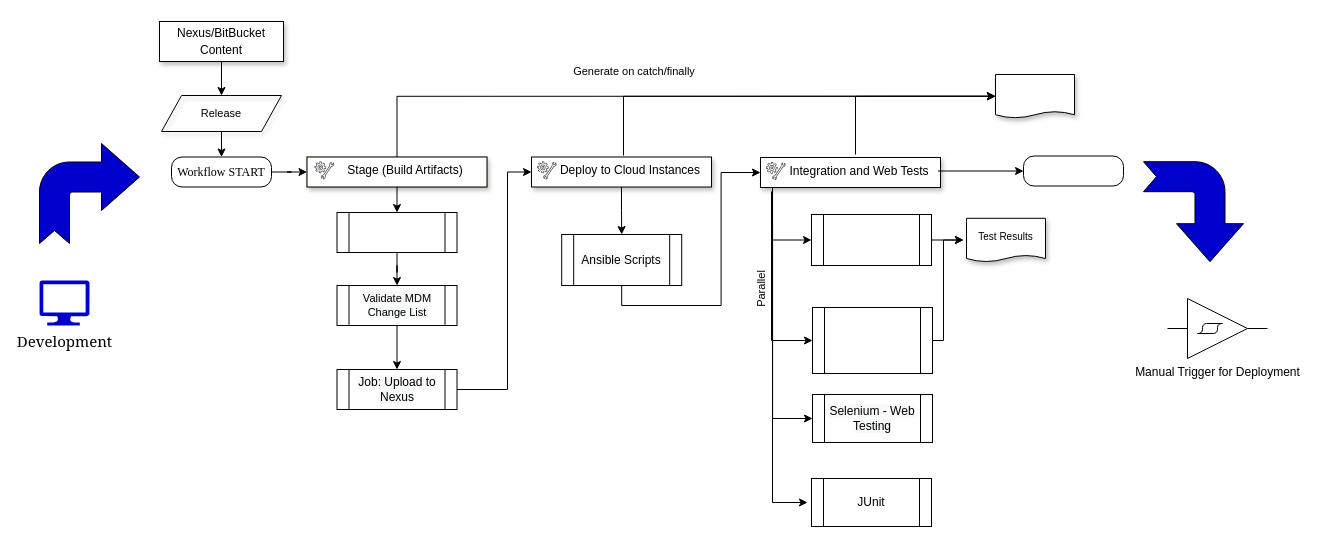
The diagram is 1317 pixels wide and 544 high, and some of its shapes have lost their labels. The centre of each missing label's shape, as x and y in pixels:
"build-report.html" goes at point 1035,97.
"Create MDM Change List" goes at point 396,232.
"Script : ( Postman)- REST services testing" goes at point 872,340.
"Script : ( SoapUI)- Web services testing" goes at point 871,240.
"Workflow ENDS" goes at point 1073,170.
